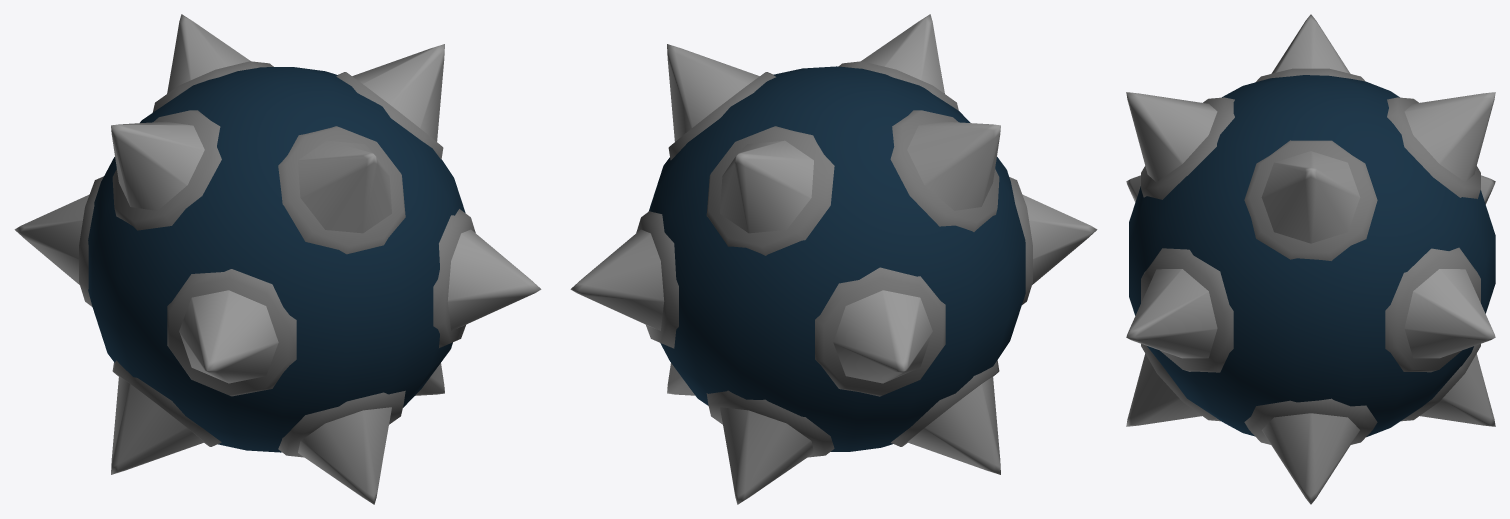
The model's file is SpikyBall.glb.
3 renders of one model, left to right at view 1: azimuth 30°, elevation 25°; view 2: azimuth 150°, elevation 25°; view 3: azimuth 270°, elevation 25°, orthographic. The views are drawn at different scales.
Visible parts, largest first — view 1: SpikyBall; view 2: SpikyBall; view 3: SpikyBall.
Boxes of the visible parts, x1=… form: SpikyBall: x1=14, y1=14, x2=541, y2=504; SpikyBall: x1=570, y1=14, x2=1097, y2=504; SpikyBall: x1=1126, y1=14, x2=1495, y2=504.
Bounding box in the file's own units: 1.18 × 1.19 × 1.18.
